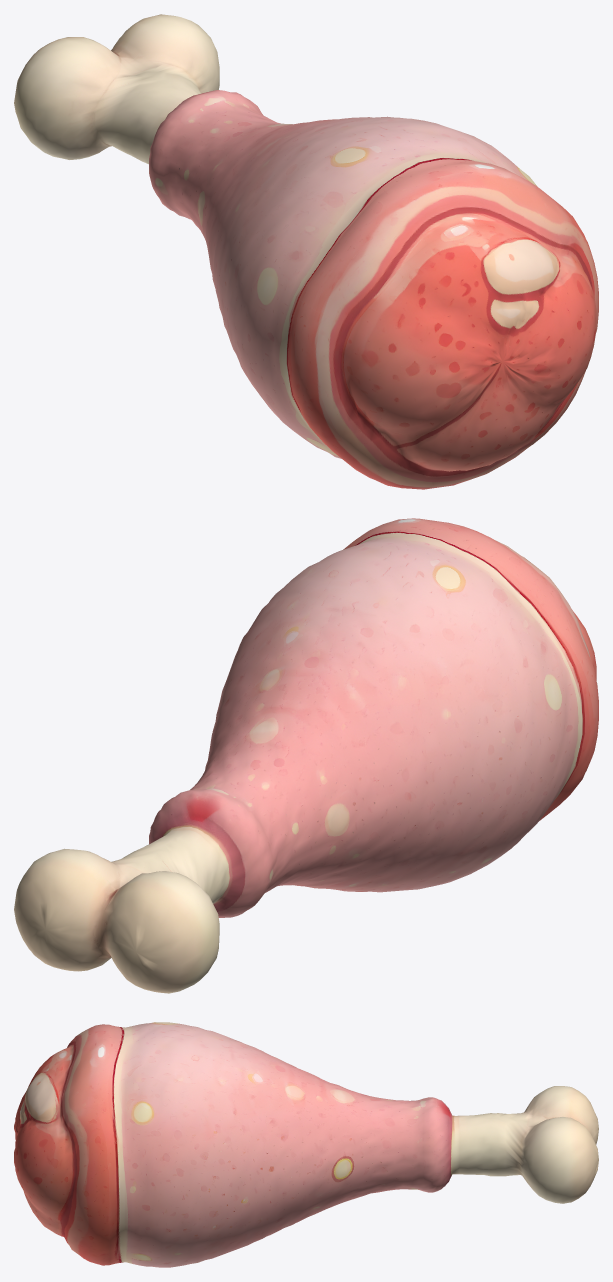
The model's file is raw_chicken.fbx.
3 views of the same model, one above another, from view 1: azimuth 30°, elevation 25°; view 2: azimuth 150°, elevation 25°; view 3: azimuth 270°, elevation 25° (orthographic). The views are drawn at different scales.
Parts seen in each view (by area): view 1: Mesh_0.003; view 2: Mesh_0.003; view 3: Mesh_0.003.
Part boxes in pixels (x1,y1,x2,y2): Mesh_0.003: (14, 14, 598, 489); Mesh_0.003: (14, 518, 598, 993); Mesh_0.003: (14, 1022, 598, 1267).
Size of the model in its own units: 16.05 by 16.05 by 38.12.
Materials: 1 (1 with a texture image).
